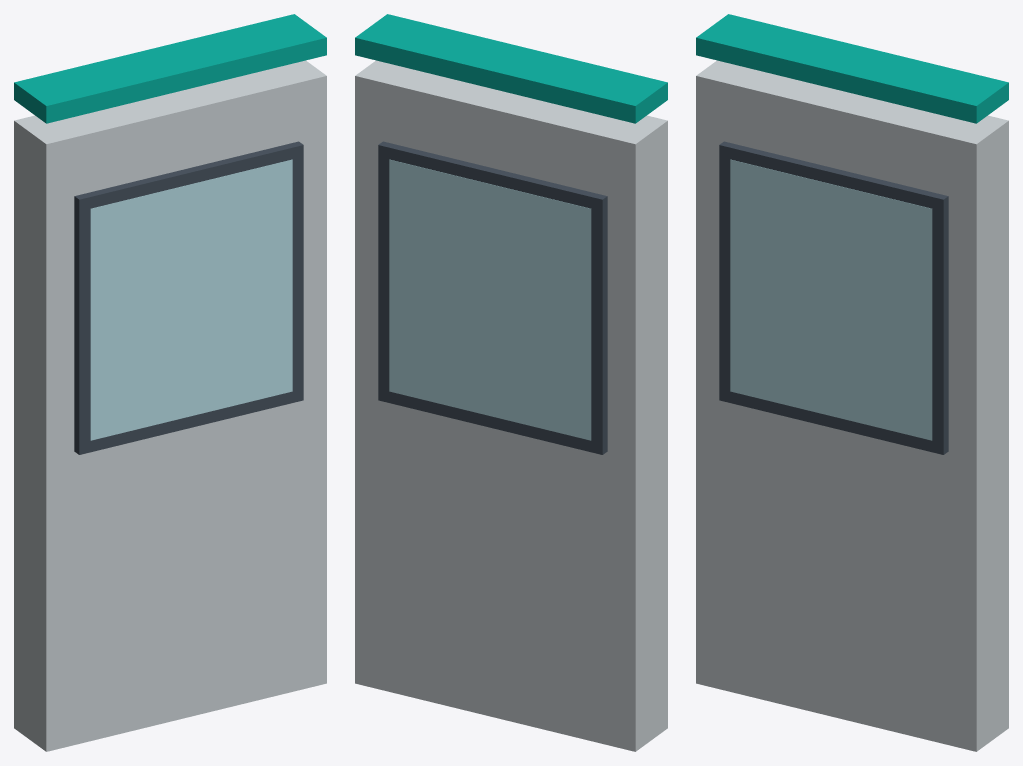
The model's file is raum_wand_fenster.glb.
3 renders of one model, left to right at view 1: azimuth 30°, elevation 25°; view 2: azimuth 150°, elevation 25°; view 3: azimuth 330°, elevation 25°, orthographic.
Parts seen in each view (by area): view 1: raum_wand_fenster; view 2: raum_wand_fenster; view 3: raum_wand_fenster.
Boxes of the visible parts, x1=… form: raum_wand_fenster: x1=14, y1=14, x2=326, y2=751; raum_wand_fenster: x1=355, y1=14, x2=667, y2=751; raum_wand_fenster: x1=696, y1=14, x2=1008, y2=751.
Size of the model in its own units: 1 by 2.2 by 0.262.
